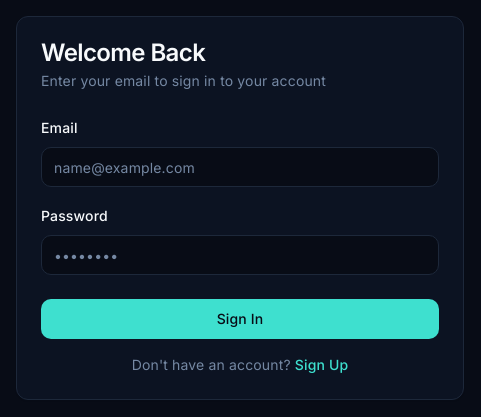
it: Auth Component › Sign In › should disable button while loading
Type "test@example.com" into the field labelled "Email" at (240,167), box [41, 147, 439, 187]
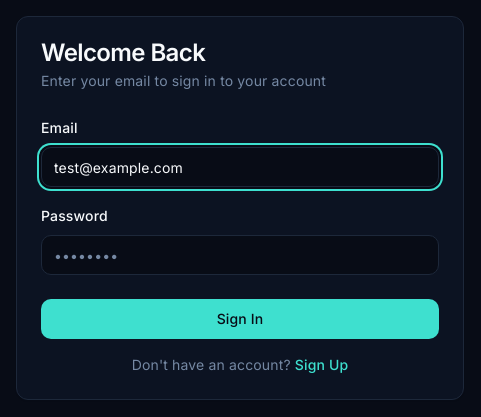
Type "password123" into the password field labelled "Password" at (240,255), box [41, 235, 439, 275]
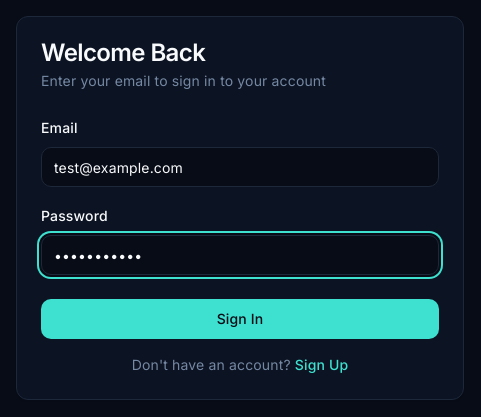
Click the button "Sign In" at (240,319), box [41, 299, 439, 339]
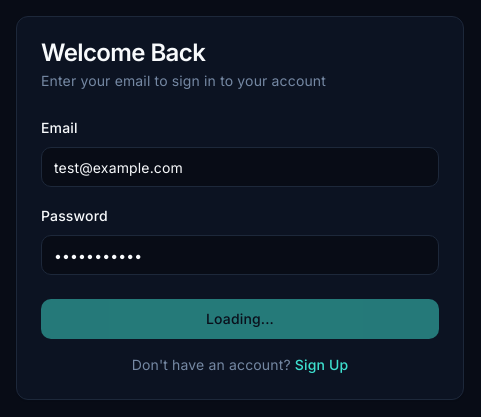
expect the button "Loading..." is disabled: met, box [41, 299, 439, 339]
